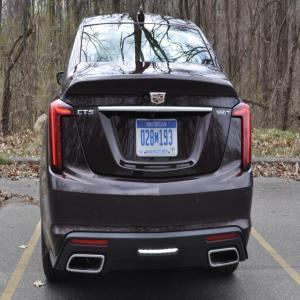Plate: (136, 119, 178, 156)
